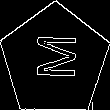M_W: (30, 37, 79, 84)
